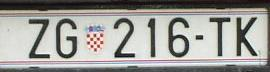-: (194, 33, 206, 42)
1: (147, 18, 157, 59)
2: (113, 17, 138, 59)
6: (168, 17, 190, 60)
G: (56, 20, 79, 59)
K: (236, 17, 259, 56)
T: (208, 16, 231, 57)
Z: (28, 17, 51, 58)
